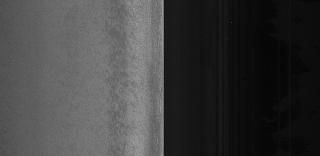silk spot: (110, 52, 138, 96)
